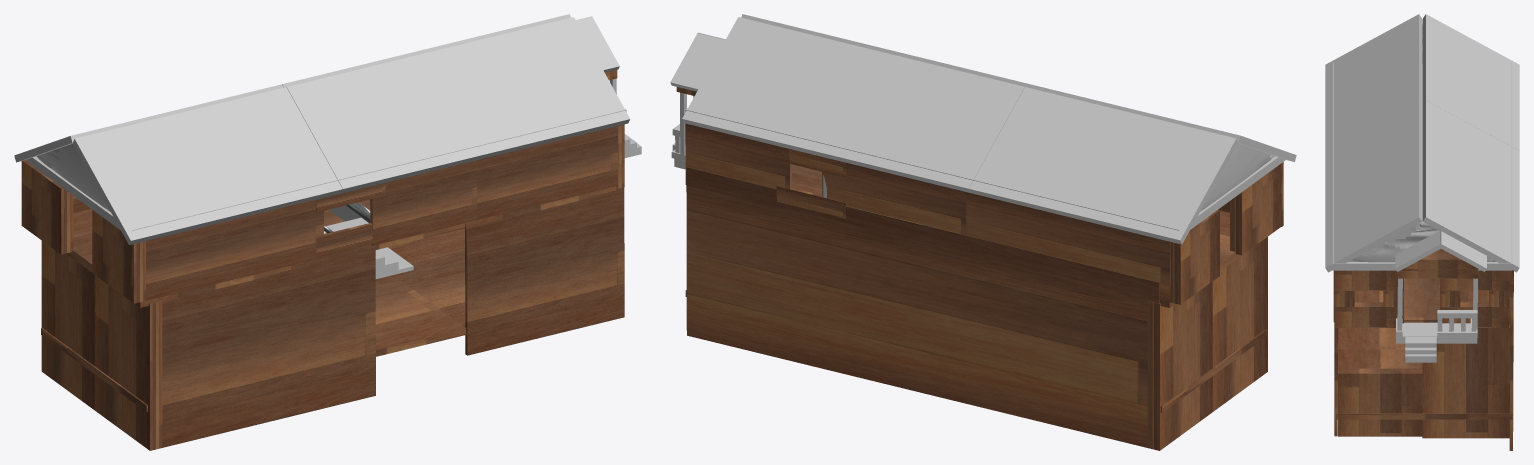
The model's file is TheStayhouse 2.fbx.
3 views of the same model, side by side, from view 1: azimuth 30°, elevation 25°; view 2: azimuth 150°, elevation 25°; view 3: azimuth 270°, elevation 25° (orthographic). The views are drawn at different scales.
Visible parts, largest first — view 1: 2WALLS, ROOF2.002, 1WALLS, BASEMENTFLOOR, LIVINROOMFLOOR, Cube.007, Cube, 1Roof, basementstairs.001; view 2: 2WALLS, ROOF2.002, 1WALLS, Cube.007, 1Roof, Cube, LIVINROOMFLOOR, BASEMENTFLOOR, PORCSTAIRS; view 3: ROOF2.002, 2WALLS, 1WALLS, BASEMENTFLOOR, PORCSTAIRS, LIVINROOMFLOOR, 1Roof, Cube.050, Cube.007, Cube.001, frontStair.
Part boxes in pixels (x1=…): 2WALLS: x1=41, y1=187, x2=624, y2=450; ROOF2.002: x1=14, y1=14, x2=629, y2=244; 1WALLS: x1=21, y1=124, x2=624, y2=303; BASEMENTFLOOR: x1=41, y1=228, x2=466, y2=411; LIVINROOMFLOOR: x1=66, y1=186, x2=616, y2=307; Cube.007: x1=25, y1=108, x2=626, y2=230; Cube: x1=36, y1=143, x2=110, y2=211; 1Roof: x1=576, y1=16, x2=619, y2=72; basementstairs.001: x1=375, y1=247, x2=413, y2=278; 2WALLS: x1=686, y1=167, x2=1267, y2=450; ROOF2.002: x1=682, y1=14, x2=1296, y2=244; 1WALLS: x1=685, y1=123, x2=1283, y2=304; Cube.007: x1=685, y1=108, x2=1285, y2=230; 1Roof: x1=670, y1=32, x2=725, y2=91; Cube: x1=1200, y1=143, x2=1274, y2=211; LIVINROOMFLOOR: x1=792, y1=164, x2=1241, y2=307; BASEMENTFLOOR: x1=685, y1=290, x2=1267, y2=412; PORCSTAIRS: x1=671, y1=92, x2=694, y2=169; ROOF2.002: x1=1325, y1=14, x2=1519, y2=272; 2WALLS: x1=1334, y1=319, x2=1513, y2=450; 1WALLS: x1=1333, y1=270, x2=1513, y2=327; BASEMENTFLOOR: x1=1336, y1=328, x2=1512, y2=419; PORCSTAIRS: x1=1396, y1=278, x2=1477, y2=343; LIVINROOMFLOOR: x1=1354, y1=278, x2=1510, y2=326; 1Roof: x1=1395, y1=231, x2=1486, y2=271; Cube.050: x1=1397, y1=249, x2=1478, y2=278; Cube.007: x1=1333, y1=62, x2=1512, y2=270; Cube.001: x1=1348, y1=222, x2=1495, y2=262; frontStair: x1=1405, y1=337, x2=1436, y2=362.
Bounding box in the file's own units: 6259 × 3007 × 2265.
